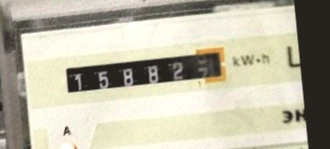1: (73, 71, 84, 90)
2: (171, 59, 185, 80)
5: (95, 68, 111, 89)
7: (196, 64, 209, 77)
8: (146, 62, 161, 84), (122, 65, 136, 86)
screen: (60, 44, 232, 100)
